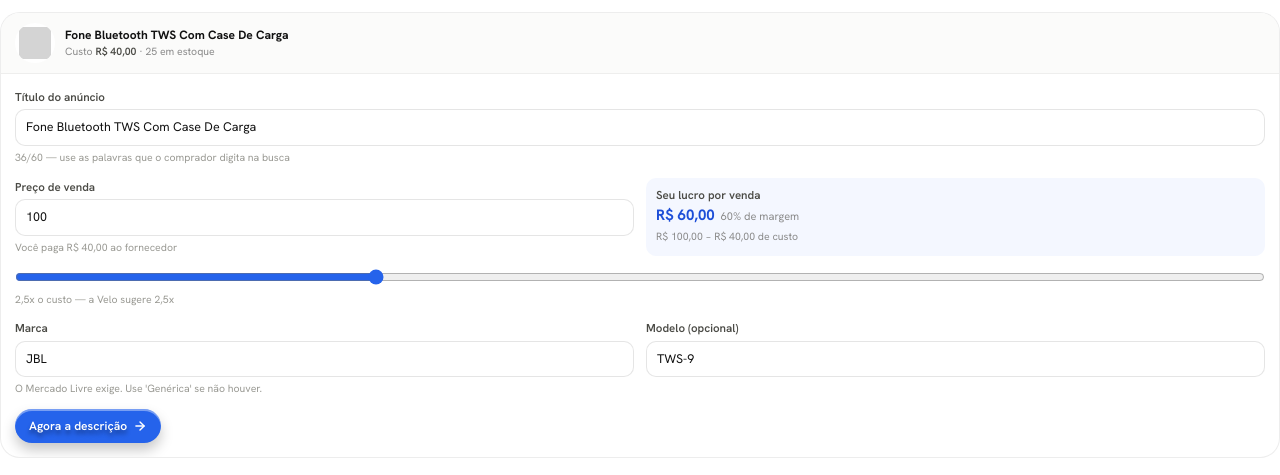
it: AtlasPublishComposer › recalcula o lucro quando o preço muda
expect the field showing "Fone Bluetooth TWS" is shown: met, box x1=15 y1=109 x2=1265 y2=146
Replace the text in the field showing "100" with "150". click: (324, 217)
box: x1=15 y1=199 x2=634 y2=236
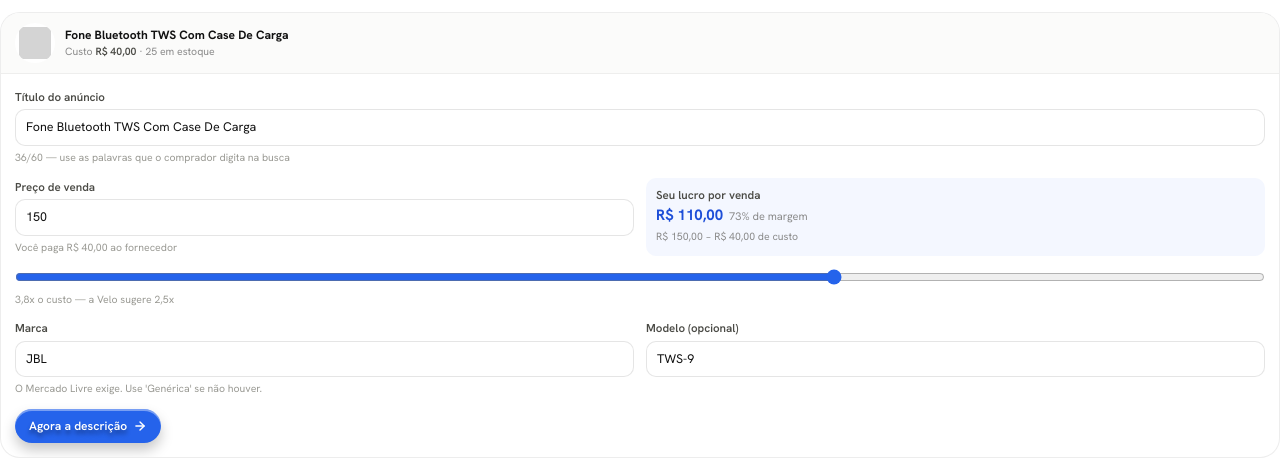
expect the text "R$ 110,00" is shown: met, box x1=656 y1=205 x2=723 y2=225
